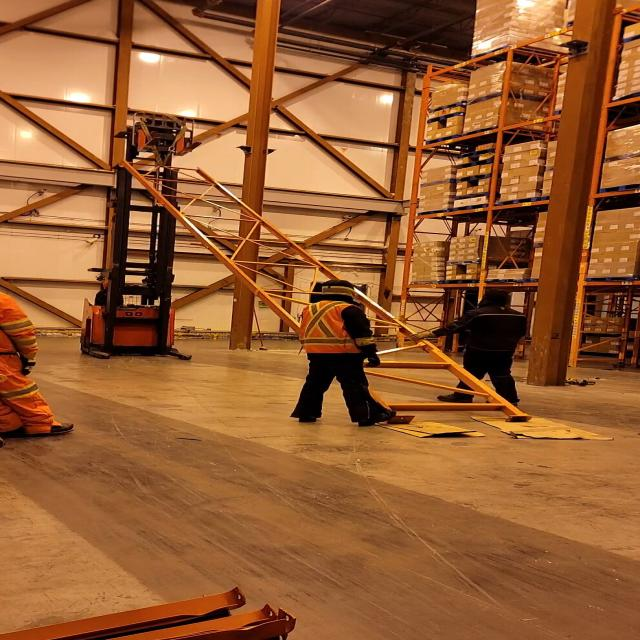forklift: (78, 198, 196, 364)
human: (410, 289, 538, 412), (284, 278, 386, 431), (0, 262, 79, 442)
objectofinterest: (105, 156, 538, 425), (463, 411, 619, 444), (360, 412, 489, 439)
